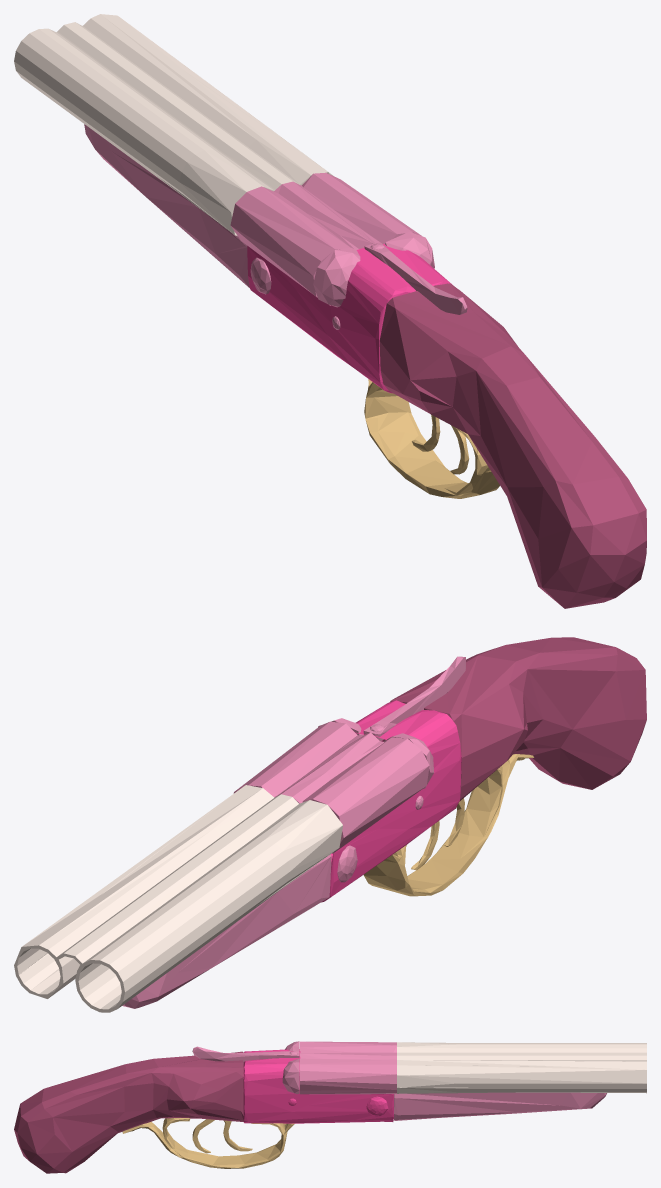
The model's file is Shotgun_SawedOff.obj.
The picture shows the model from 3 angles, top to bottom: view 1: azimuth 30°, elevation 25°; view 2: azimuth 150°, elevation 25°; view 3: azimuth 270°, elevation 25°; orthographic projection. The views are drawn at different scales.
Visible parts, largest first — view 1: Grip, Panel, Body, Accent, Hardware; view 2: Panel, Grip, Body, Accent, Hardware; view 3: Grip, Panel, Body, Accent, Hardware.
Part boxes in pixels (<box>): Grip: <box>379,283,646,608</box>; Panel: <box>14,14,333,236</box>; Body: <box>84,124,467,329</box>; Accent: <box>247,244,452,393</box>; Hardware: <box>364,379,499,498</box>; Panel: <box>14,785,342,1012</box>; Grip: <box>383,637,646,801</box>; Body: <box>122,656,465,1008</box>; Accent: <box>321,700,461,902</box>; Hardware: <box>363,754,533,896</box>; Grip: <box>14,1051,243,1173</box>; Panel: <box>397,1042,646,1093</box>; Body: <box>192,1041,606,1120</box>; Accent: <box>243,1049,393,1123</box>; Hardware: <box>122,1118,294,1168</box>.
Bounding box in the file's own units: 0.3573 × 0.62 × 2.9.
